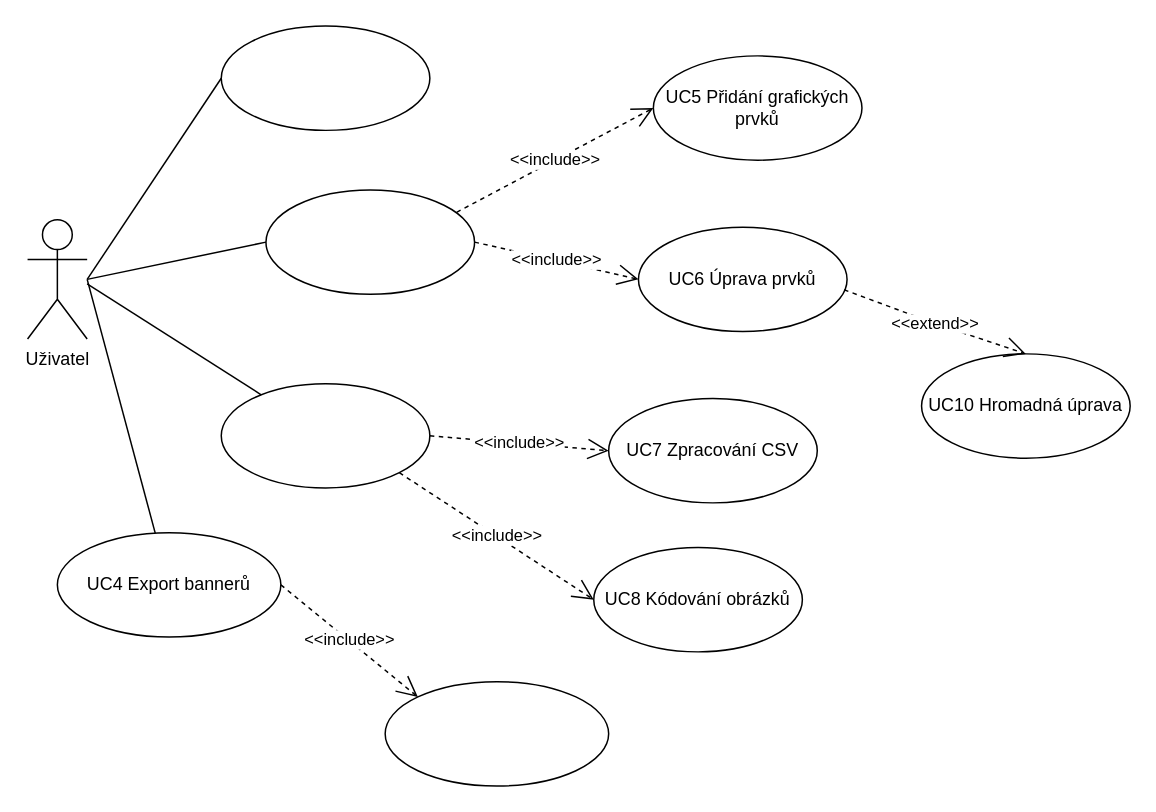
Some shapes in this 1156 by 812 pixel diagram are drawn without their labels. Here are the shapes that lost their labels. From the top down, the centre of each, then its label:
(x=325, y=77): UC1 Výběr bannerů
(x=369, y=241): UC2 Vytvoření šablon
(x=325, y=435): UC3 Import zdrojů
(x=496, y=733): UC9 Převod formátů
